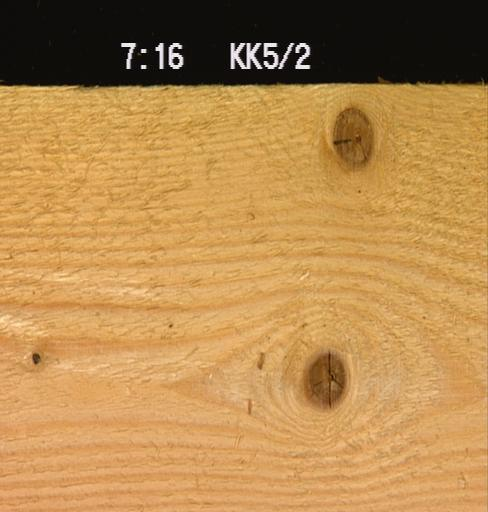dry_knot: (27, 346, 43, 367)
sound_knot: (330, 106, 373, 169), (302, 351, 350, 406)
